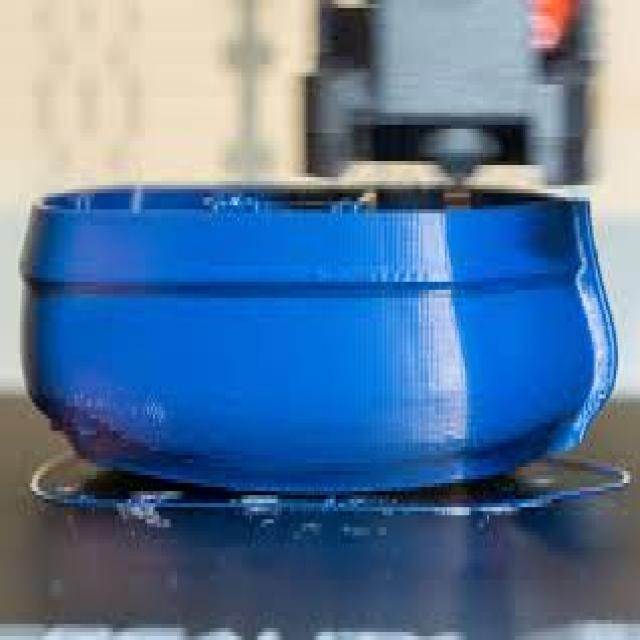Warping: (340, 445, 550, 501), (71, 445, 248, 495)
